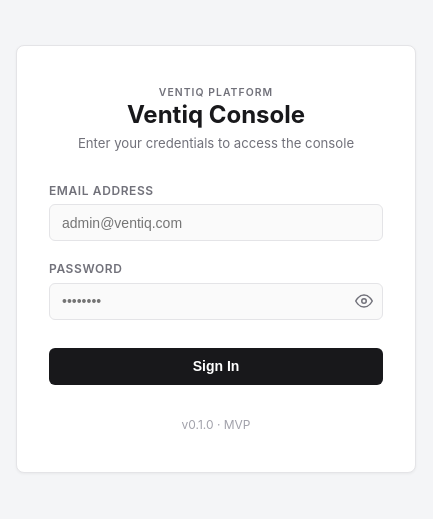
LoginPage › shows error message if fields are empty on submit
Click the button "Sign In" at (216, 366), box [49,348,383,385]
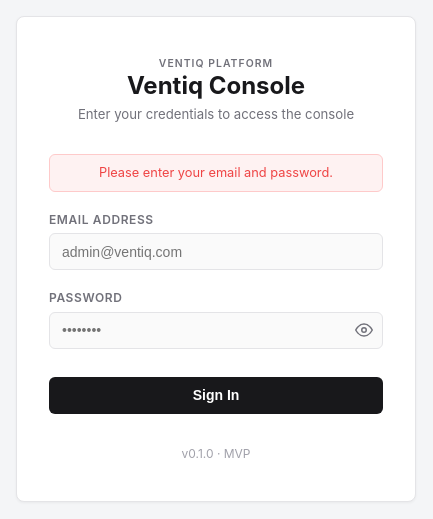
Result: the text "Please enter your email and password." is shown at [49,154,383,192]
